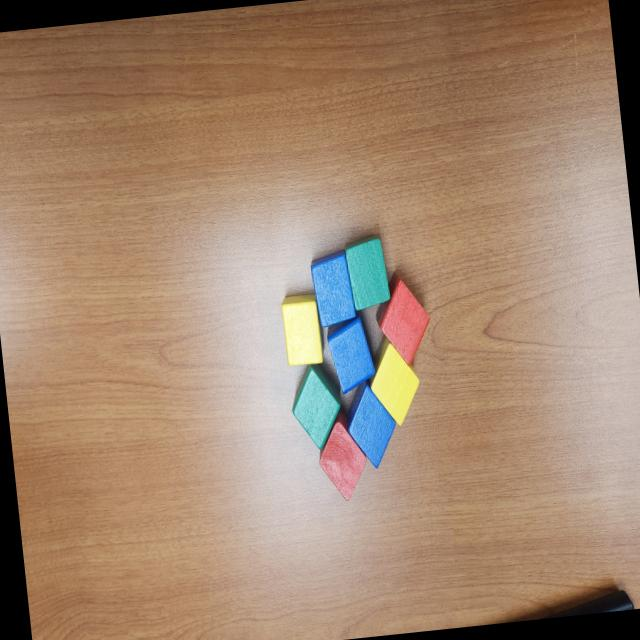blue: (342, 377, 401, 470), (322, 312, 378, 398), (308, 248, 358, 328)
green: (286, 361, 346, 452), (344, 232, 392, 314)
red: (370, 268, 436, 372), (314, 406, 371, 502)
yellow: (365, 330, 424, 428), (280, 292, 324, 368)
